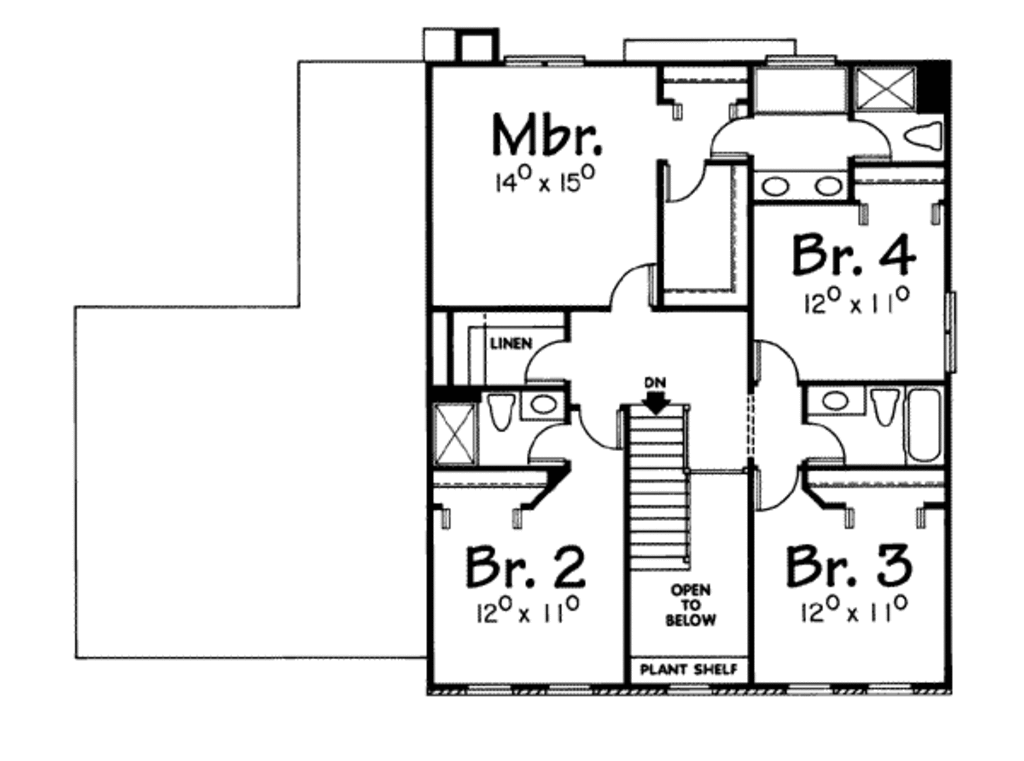door: (603, 258, 658, 313), (745, 461, 800, 514), (843, 110, 897, 159), (748, 333, 796, 388), (663, 159, 711, 210), (800, 420, 853, 464), (517, 341, 572, 383), (709, 119, 754, 159)
large_sink: (903, 106, 950, 158), (484, 388, 524, 431), (870, 384, 901, 425)
small_sink: (754, 163, 852, 207), (519, 385, 572, 425), (805, 387, 869, 415)
stairs: (616, 374, 695, 577)
tub: (901, 385, 948, 463)
window: (494, 48, 590, 76), (939, 285, 961, 372), (461, 675, 520, 704), (764, 50, 844, 69), (859, 675, 914, 701), (659, 684, 714, 701), (787, 680, 832, 700), (545, 682, 595, 696)
